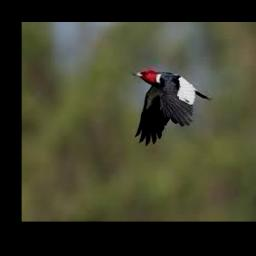Woodpecker: (132, 69, 213, 145)
